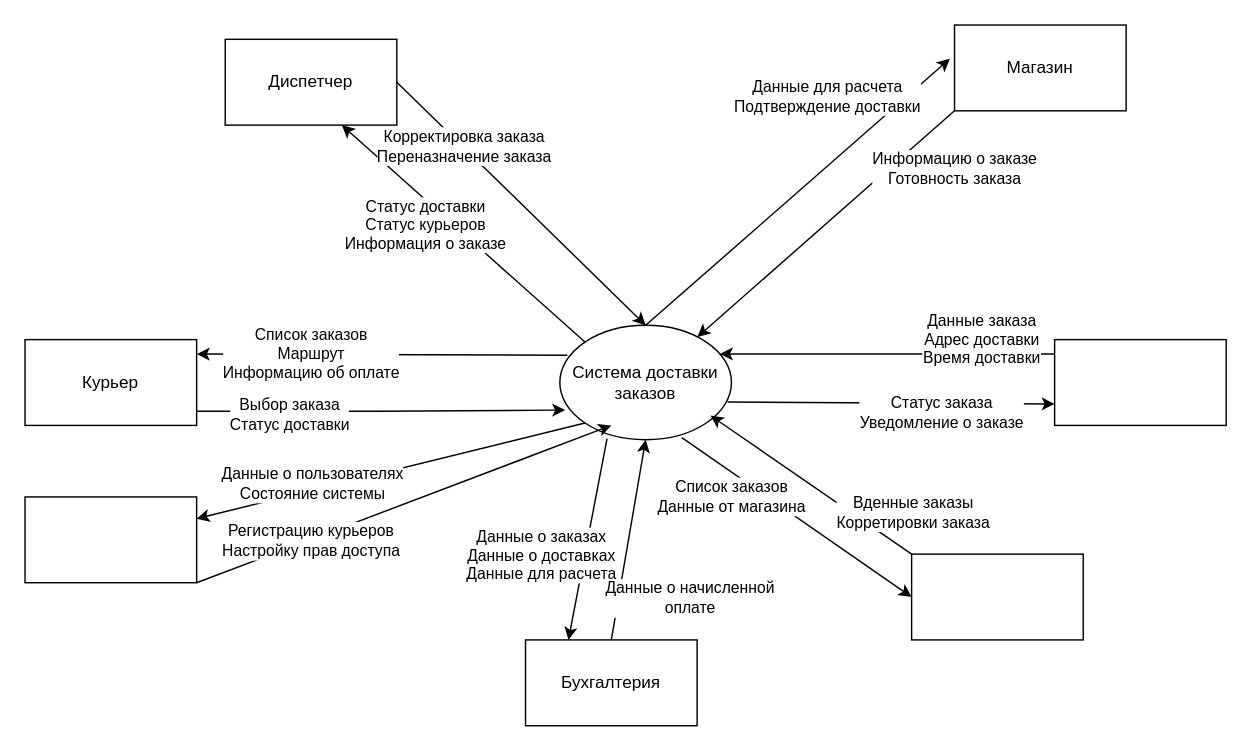
Image size: 1251x751. Some labels were removed from this diagram. Each missing label, with the box of its shape:
Администратор системы: (24, 495, 197, 583)
Клиент: (1053, 338, 1226, 425)
Оператор: (910, 553, 1083, 640)
